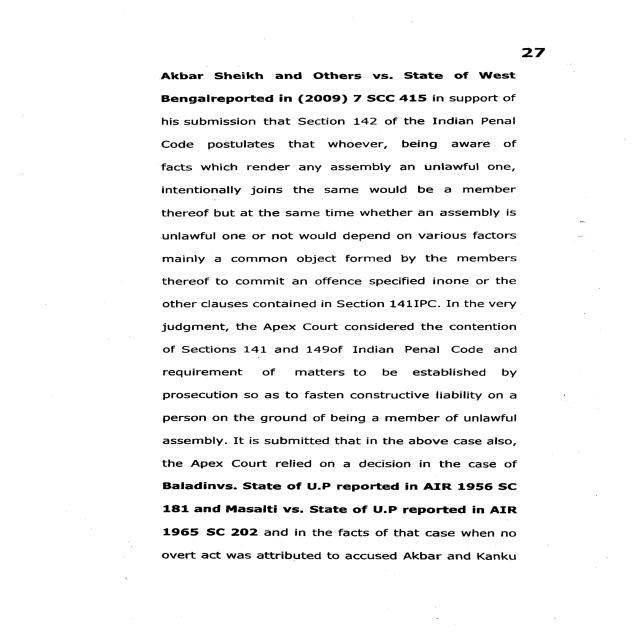page-number: (423, 1, 638, 63)
